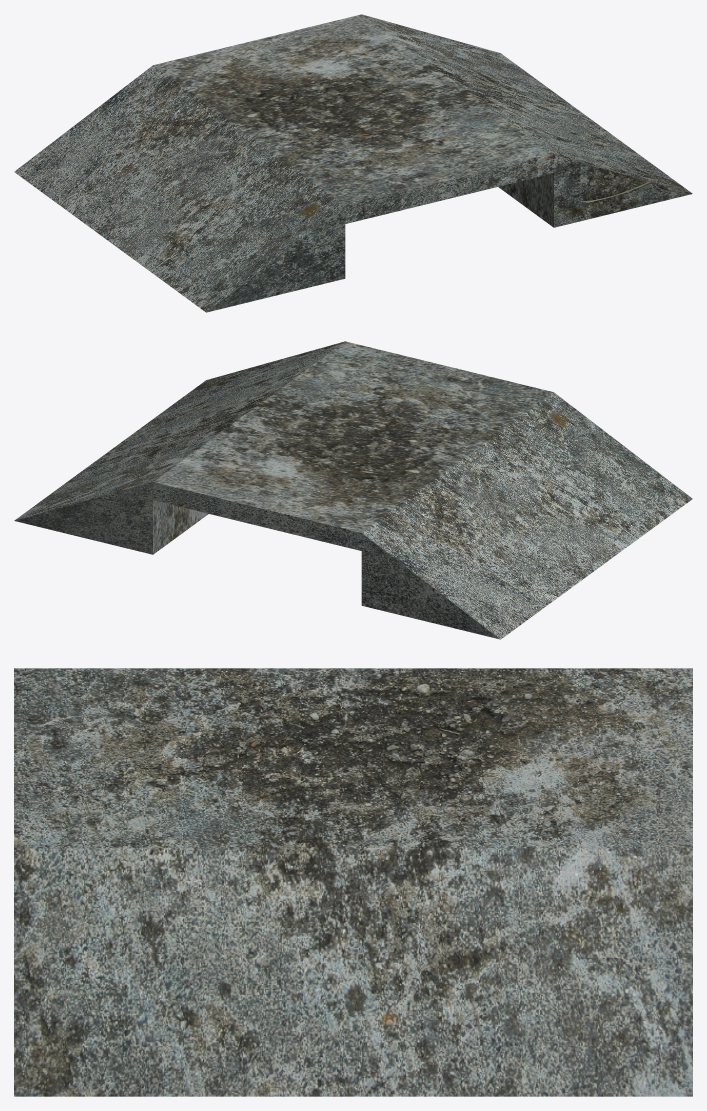
File: Ramp.fbx
The picture shows the model from 3 angles, top to bottom: view 1: azimuth 30°, elevation 25°; view 2: azimuth 150°, elevation 25°; view 3: azimuth 270°, elevation 25°; orthographic projection. The views are drawn at different scales.
Visible parts, largest first — view 1: PlatformsPrototype; view 2: PlatformsPrototype; view 3: PlatformsPrototype.
Boxes of the visible parts, box(x1,y1,x2,y2) form: PlatformsPrototype: box(14, 14, 692, 312); PlatformsPrototype: box(14, 341, 692, 639); PlatformsPrototype: box(14, 668, 692, 1096).
Bounding box in the file's own units: 2800 × 400 × 1915.
1 material, 1 textured.
